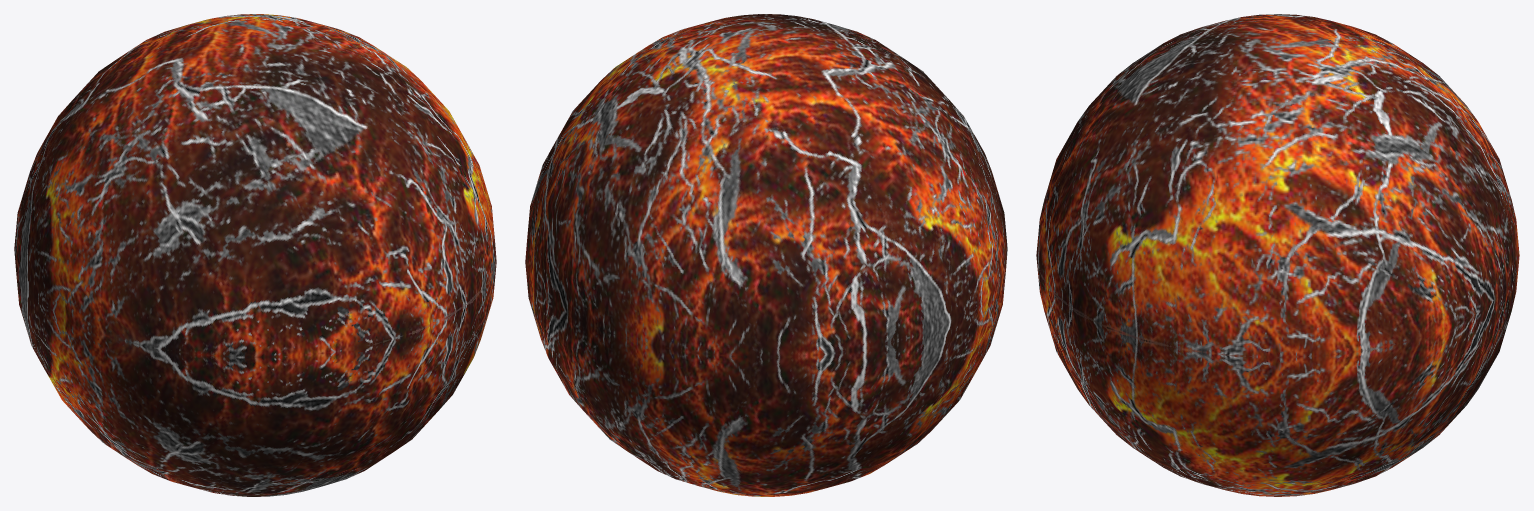
File: Fire_Planet_3.FBX
3 views of the same model, side by side, from view 1: azimuth 30°, elevation 25°; view 2: azimuth 150°, elevation 25°; view 3: azimuth 270°, elevation 25° (orthographic).
Visible parts, largest first — view 1: Fire_planet_3; view 2: Fire_planet_3; view 3: Fire_planet_3.
Part boxes in pixels (x1=…): Fire_planet_3: x1=14, y1=14, x2=496, y2=496; Fire_planet_3: x1=525, y1=14, x2=1007, y2=496; Fire_planet_3: x1=1036, y1=14, x2=1519, y2=496.
Size of the model in its own units: 69.73 by 69.73 by 69.73.
